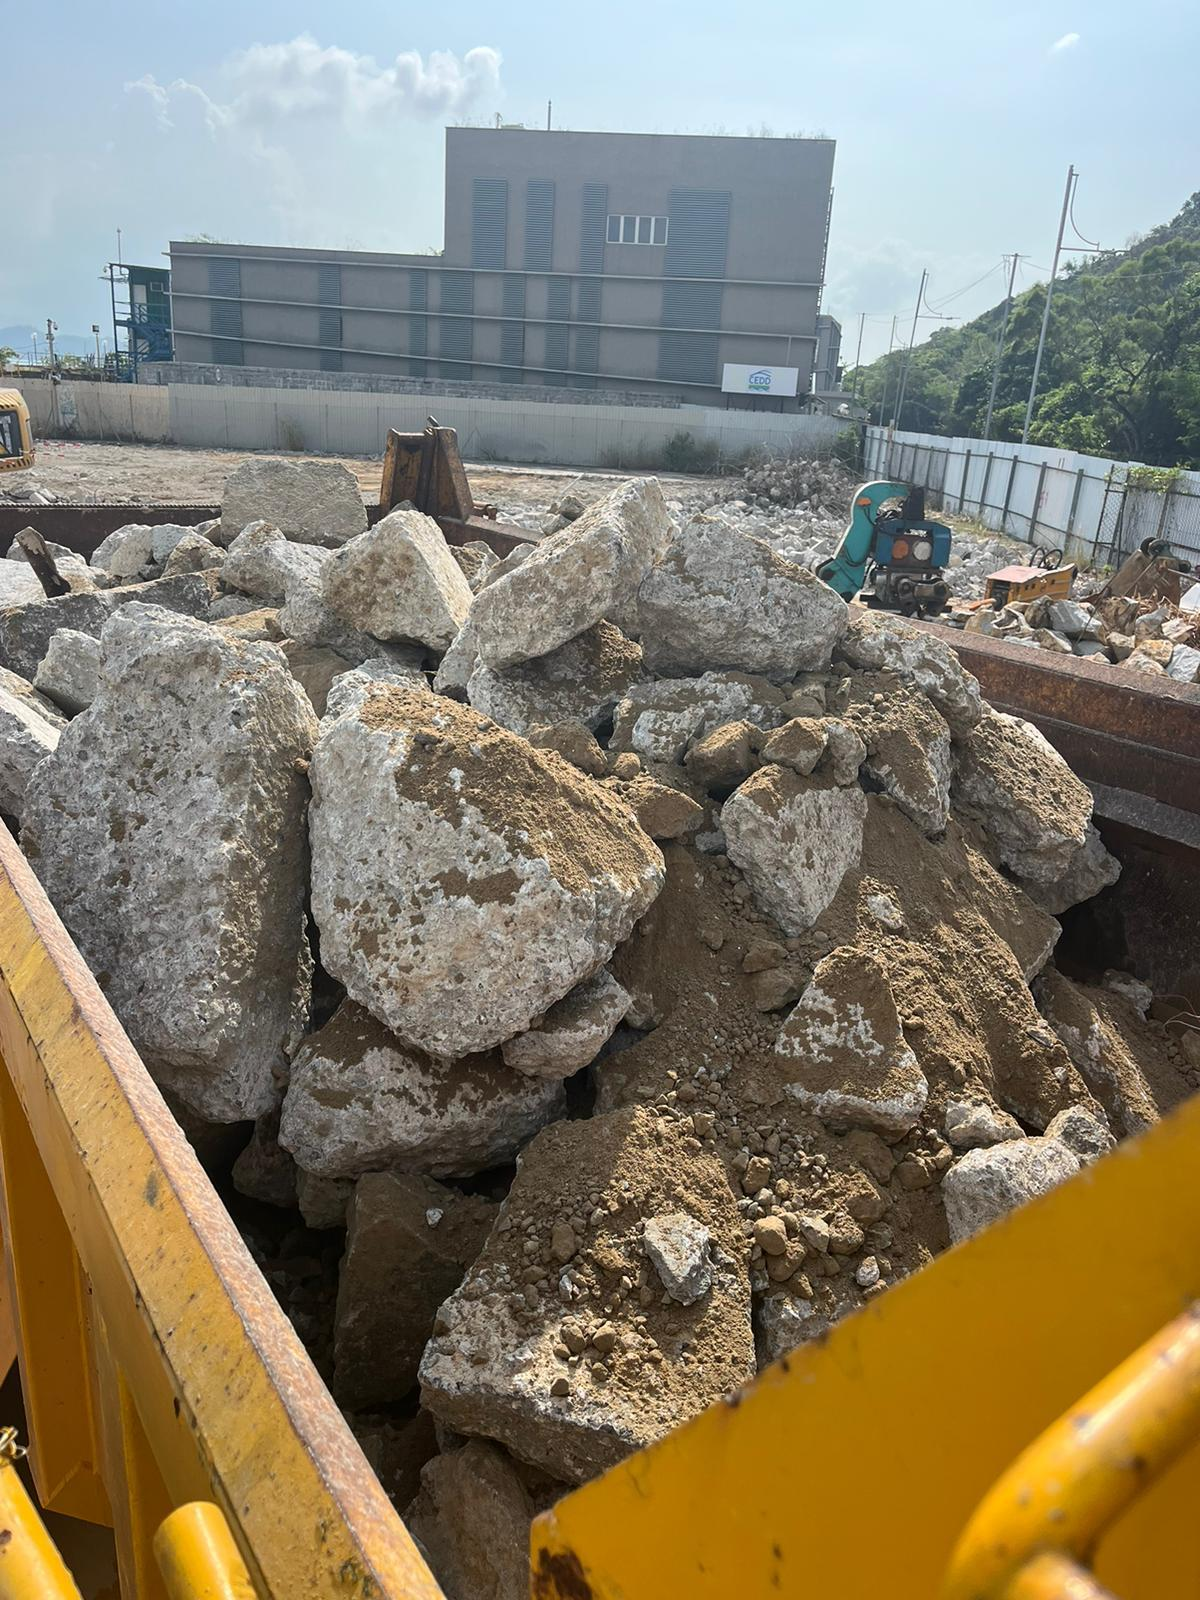dry: (15, 467, 1157, 1597)
